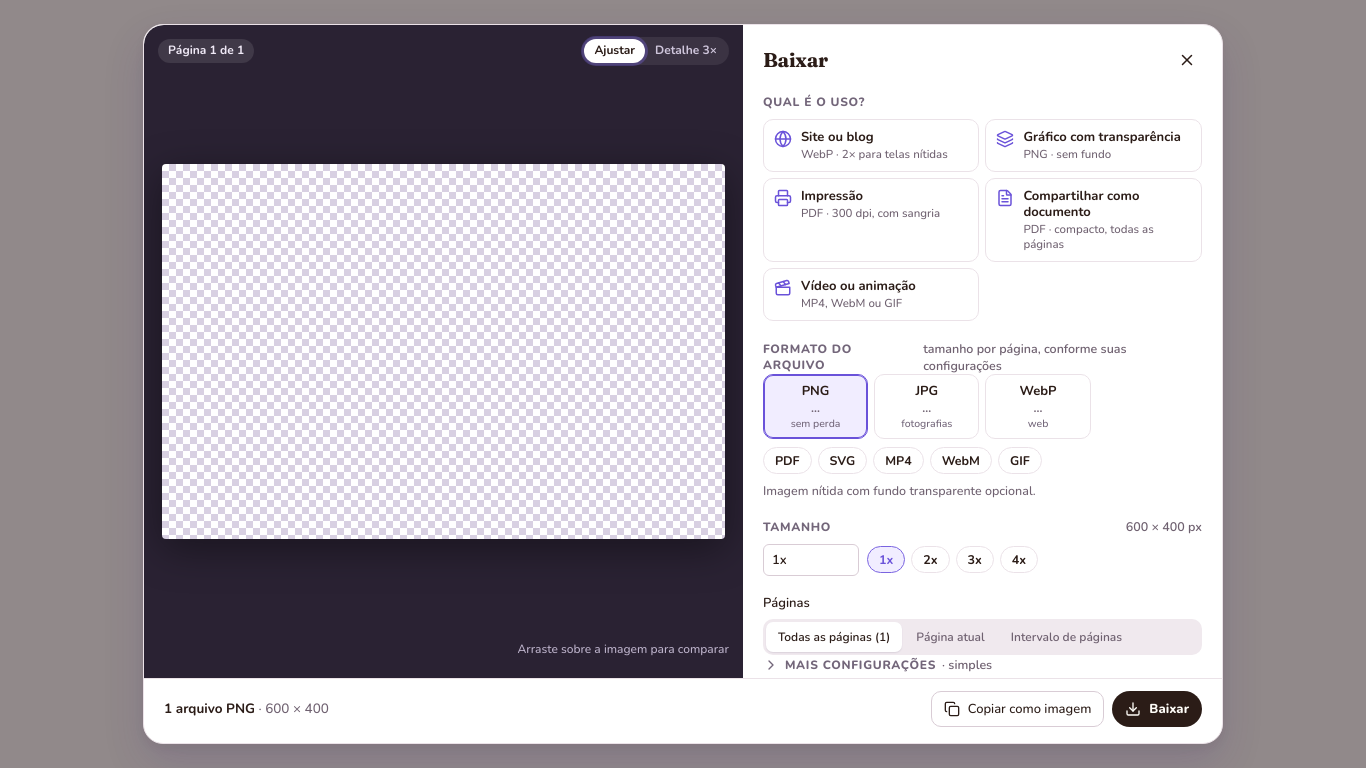
Scenario: browser download dialog › offers browser formats and print settings without server export options
Expected: the radio button labelled "PNG … sem perda" is shown, [763, 374, 868, 439]
Click the radio button labelled "PDF" at (787, 460), box [763, 447, 812, 474]
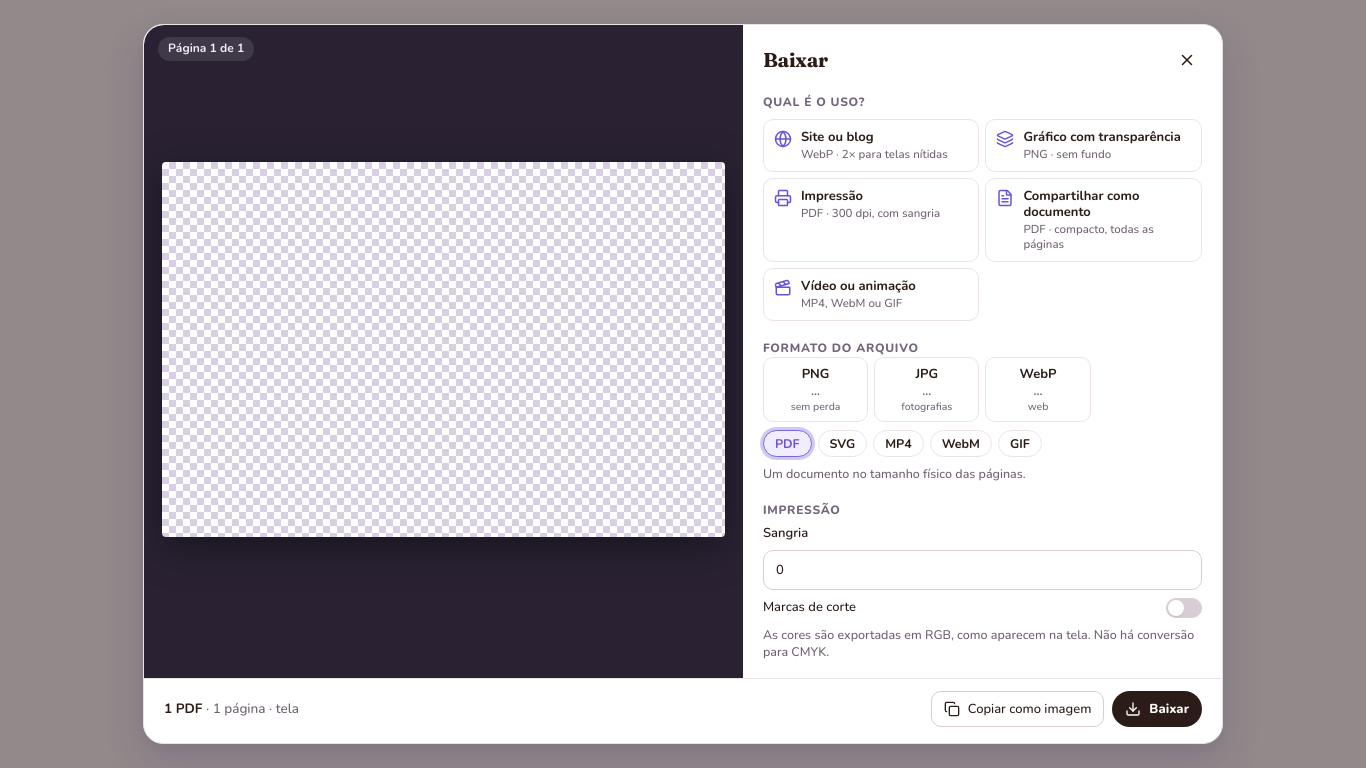
Now the number field labelled "Sangria" is shown, box [763, 550, 1202, 590]
